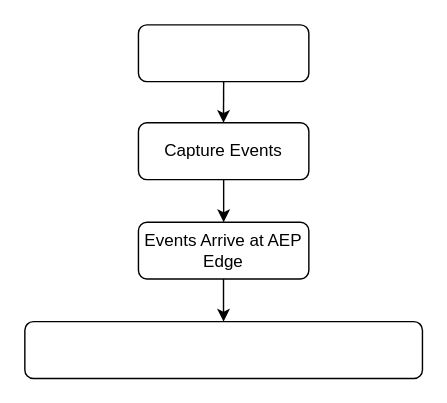
Image size: 447x403. Some labels were removed from this diagram. The shapes that lost their labels are listed below. From the top down, each one's centre as x and y in pixels, then its label:
At point (223, 52): "Tag Storefront".
At point (222, 349): "Storefront data available to Adobe DX Products".
